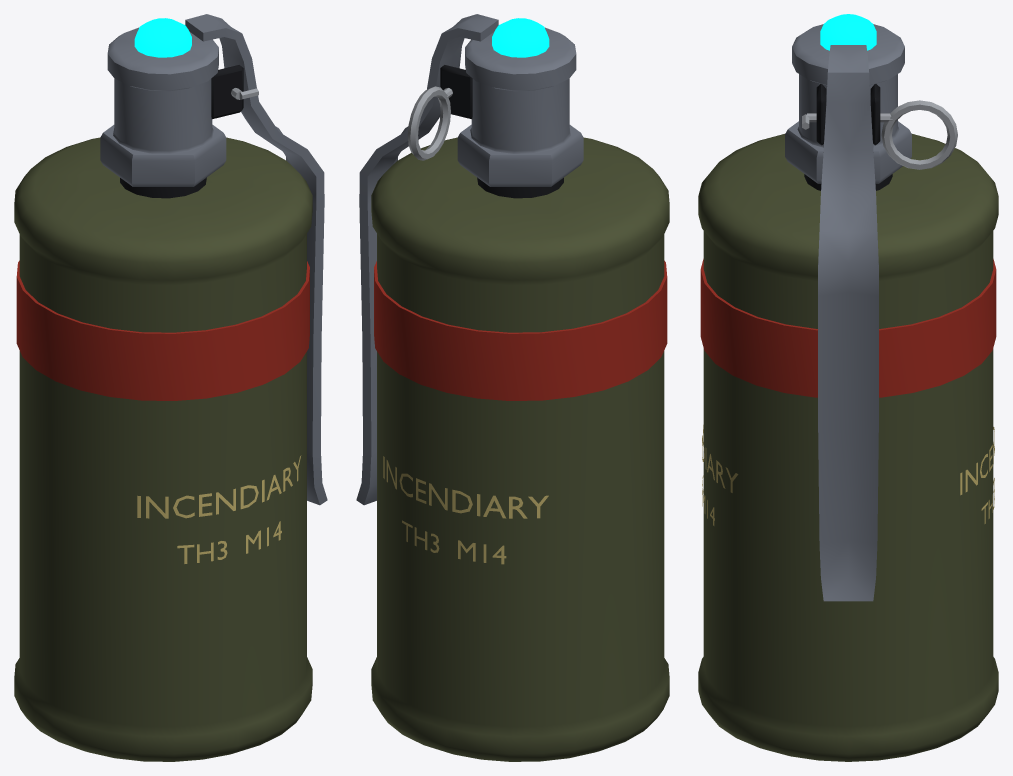
Rendered from Molly.fbx.
The picture shows the model from 3 angles, left to right: view 1: azimuth 30°, elevation 25°; view 2: azimuth 150°, elevation 25°; view 3: azimuth 270°, elevation 25°; orthographic projection.
Visible parts, largest first — view 1: Body_Olive, Band, FuseHead_Trim, Lever, FuseHead_Dark, Body_Stencil, Fuse_Energy; view 2: Body_Olive, Band, FuseHead_Trim, Lever, Body_Stencil, FuseHead_Dark, Fuse_Energy, Pin; view 3: Body_Olive, Lever, Band, FuseHead_Trim, Pin, Fuse_Energy, FuseHead_Dark, Body_Stencil.
Boxes of the visible parts, left/top/right/bottom form: Body_Olive: left=14, top=137, right=312, bottom=761; Band: left=16, top=260, right=309, bottom=400; FuseHead_Trim: left=100, top=27, right=226, bottom=186; Lever: left=185, top=14, right=327, bottom=505; FuseHead_Dark: left=120, top=65, right=243, bottom=198; Body_Stencil: left=137, top=455, right=301, bottom=563; Fuse_Energy: left=134, top=18, right=191, bottom=57; Body_Olive: left=371, top=137, right=669, bottom=761; Band: left=374, top=260, right=667, bottom=400; FuseHead_Trim: left=457, top=27, right=583, bottom=186; Lever: left=356, top=14, right=498, bottom=505; Body_Stencil: left=383, top=456, right=548, bottom=564; FuseHead_Dark: left=440, top=65, right=563, bottom=198; Fuse_Energy: left=492, top=18, right=549, bottom=57; Pin: left=407, top=86, right=452, bottom=160; Body_Olive: left=698, top=134, right=998, bottom=761; Lever: left=818, top=45, right=878, bottom=601; Band: left=700, top=259, right=996, bottom=397; FuseHead_Trim: left=785, top=24, right=911, bottom=183; Pin: left=802, top=100, right=957, bottom=169; Fuse_Energy: left=820, top=14, right=876, bottom=50; FuseHead_Dark: left=804, top=84, right=892, bottom=190; Body_Stencil: left=702, top=425, right=994, bottom=525.
Bounding box in the file's own units: 0.2369 × 0.55 × 0.218.
